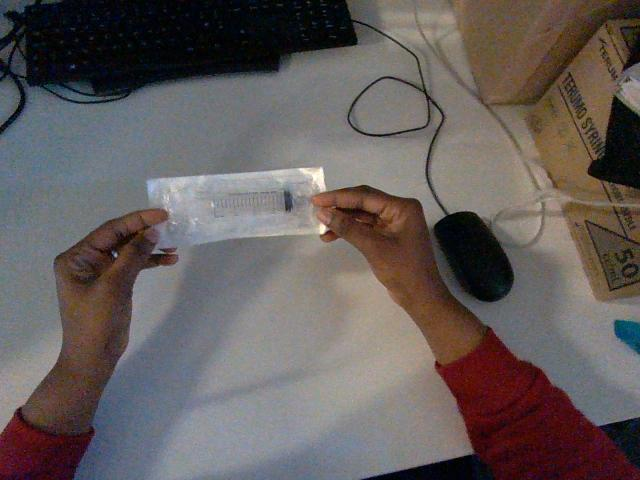syringe: (147, 167, 325, 247)
